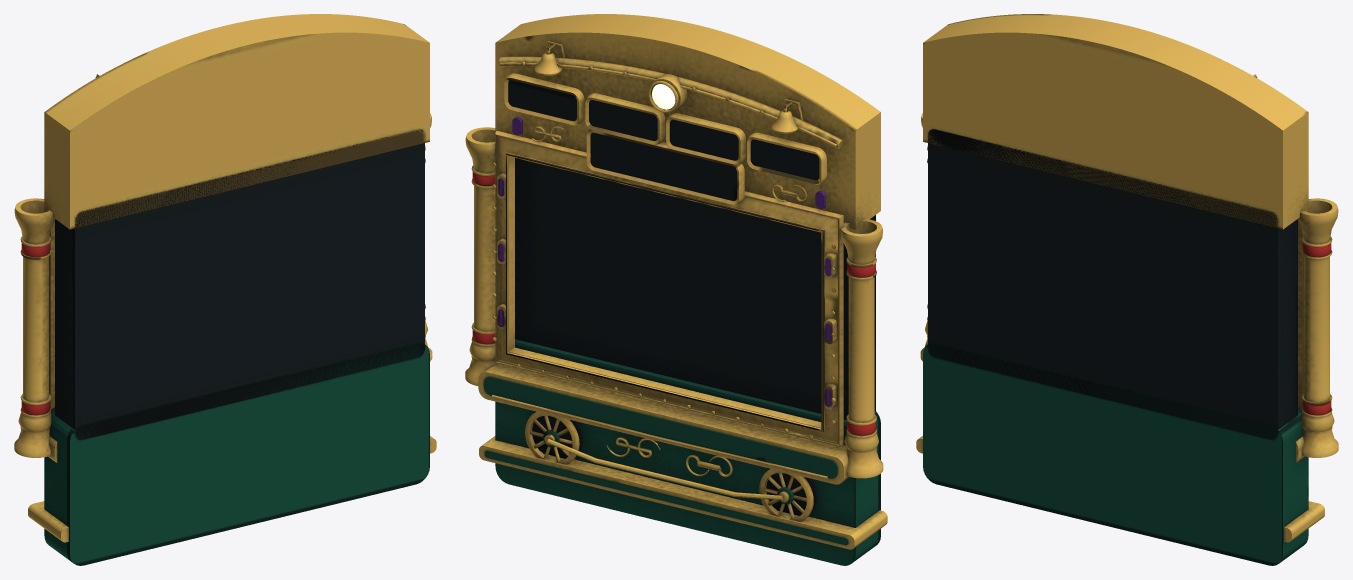
3 views of the same model, side by side, from view 1: azimuth 30°, elevation 25°; view 2: azimuth 150°, elevation 25°; view 3: azimuth 330°, elevation 25° (orthographic).
Visible parts, largest first — view 1: Uniform_charcoal, Polished_warm_brass, Deep_railway_green, Vermilion_enamel; view 2: Polished_warm_brass, Uniform_charcoal, Deep_railway_green, Vermilion_enamel, Royal_purple_enamel; view 3: Uniform_charcoal, Polished_warm_brass, Deep_railway_green, Vermilion_enamel.
Boxes of the visible parts, bbox=[...] form: Uniform_charcoal: bbox=[55, 129, 424, 440]; Polished_warm_brass: bbox=[14, 14, 436, 542]; Deep_railway_green: bbox=[44, 343, 429, 565]; Vermilion_enamel: bbox=[21, 243, 50, 415]; Polished_warm_brass: bbox=[465, 14, 887, 549]; Uniform_charcoal: bbox=[508, 80, 875, 515]; Deep_railway_green: bbox=[483, 339, 880, 565]; Vermilion_enamel: bbox=[472, 172, 875, 435]; Royal_purple_enamel: bbox=[498, 117, 830, 406]; Uniform_charcoal: bbox=[928, 129, 1297, 440]; Polished_warm_brass: bbox=[916, 14, 1338, 542]; Deep_railway_green: bbox=[923, 343, 1308, 565]; Vermilion_enamel: bbox=[1302, 243, 1331, 415].
Bounding box in the file's own units: 8.98 × 10 × 1.56.
6 materials, 5 textured.
